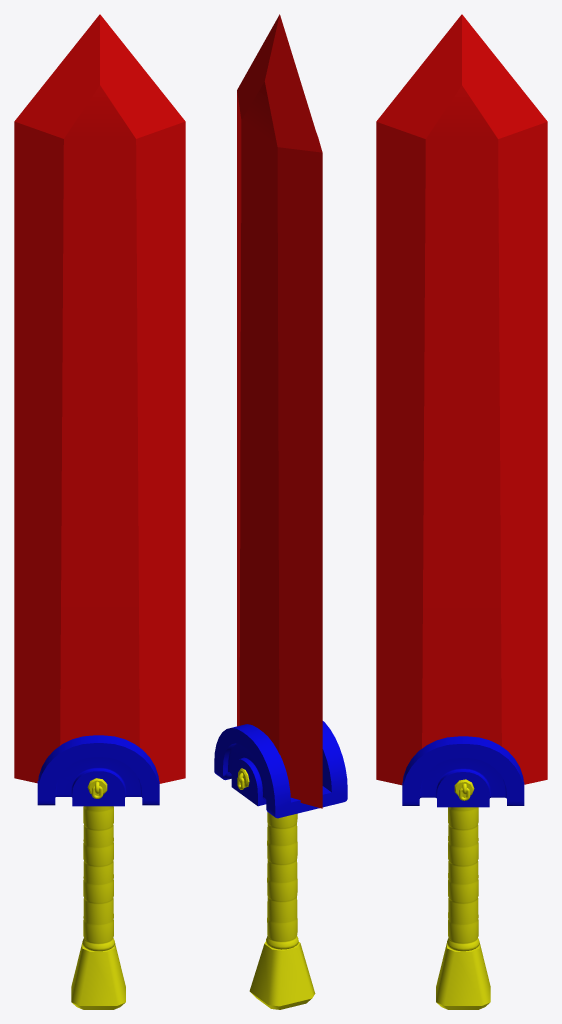
The model's file is espada 1.fbx.
3 views of the same model, side by side, from view 1: azimuth 90°, elevation 25°; view 2: azimuth 210°, elevation 25°; view 3: azimuth 270°, elevation 25° (orthographic).
Visible parts, largest first — view 1: polySurface27; view 2: polySurface27; view 3: polySurface27.
Part boxes in pixels (box(x1,y1,x2,y2)): polySurface27: box(14, 14, 185, 1009); polySurface27: box(214, 14, 347, 1009); polySurface27: box(376, 14, 547, 1009).
Size of the model in its own units: 1.44 by 15.6 by 2.46.
